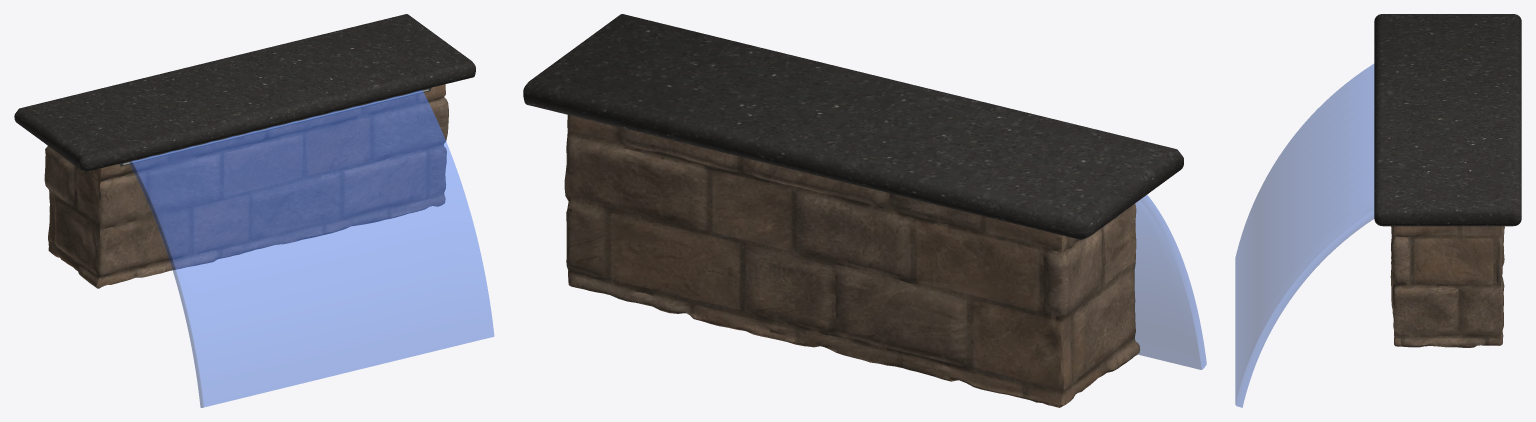
The model's file is wall-waterfall.glb.
3 views of the same model, side by side, from view 1: azimuth 30°, elevation 25°; view 2: azimuth 150°, elevation 25°; view 3: azimuth 270°, elevation 25° (orthographic). The views are drawn at different scales.
Visible parts, largest first — view 1: Wall waterfall; view 2: Wall waterfall; view 3: Wall waterfall.
Part boxes in pixels (x1,y1,x2,y2): Wall waterfall: [14, 14, 494, 407]; Wall waterfall: [523, 14, 1206, 407]; Wall waterfall: [1235, 14, 1521, 407].
Size of the model in its own units: 5.84 by 3.04 by 3.54.
Materials: 4 (2 with a texture image).
